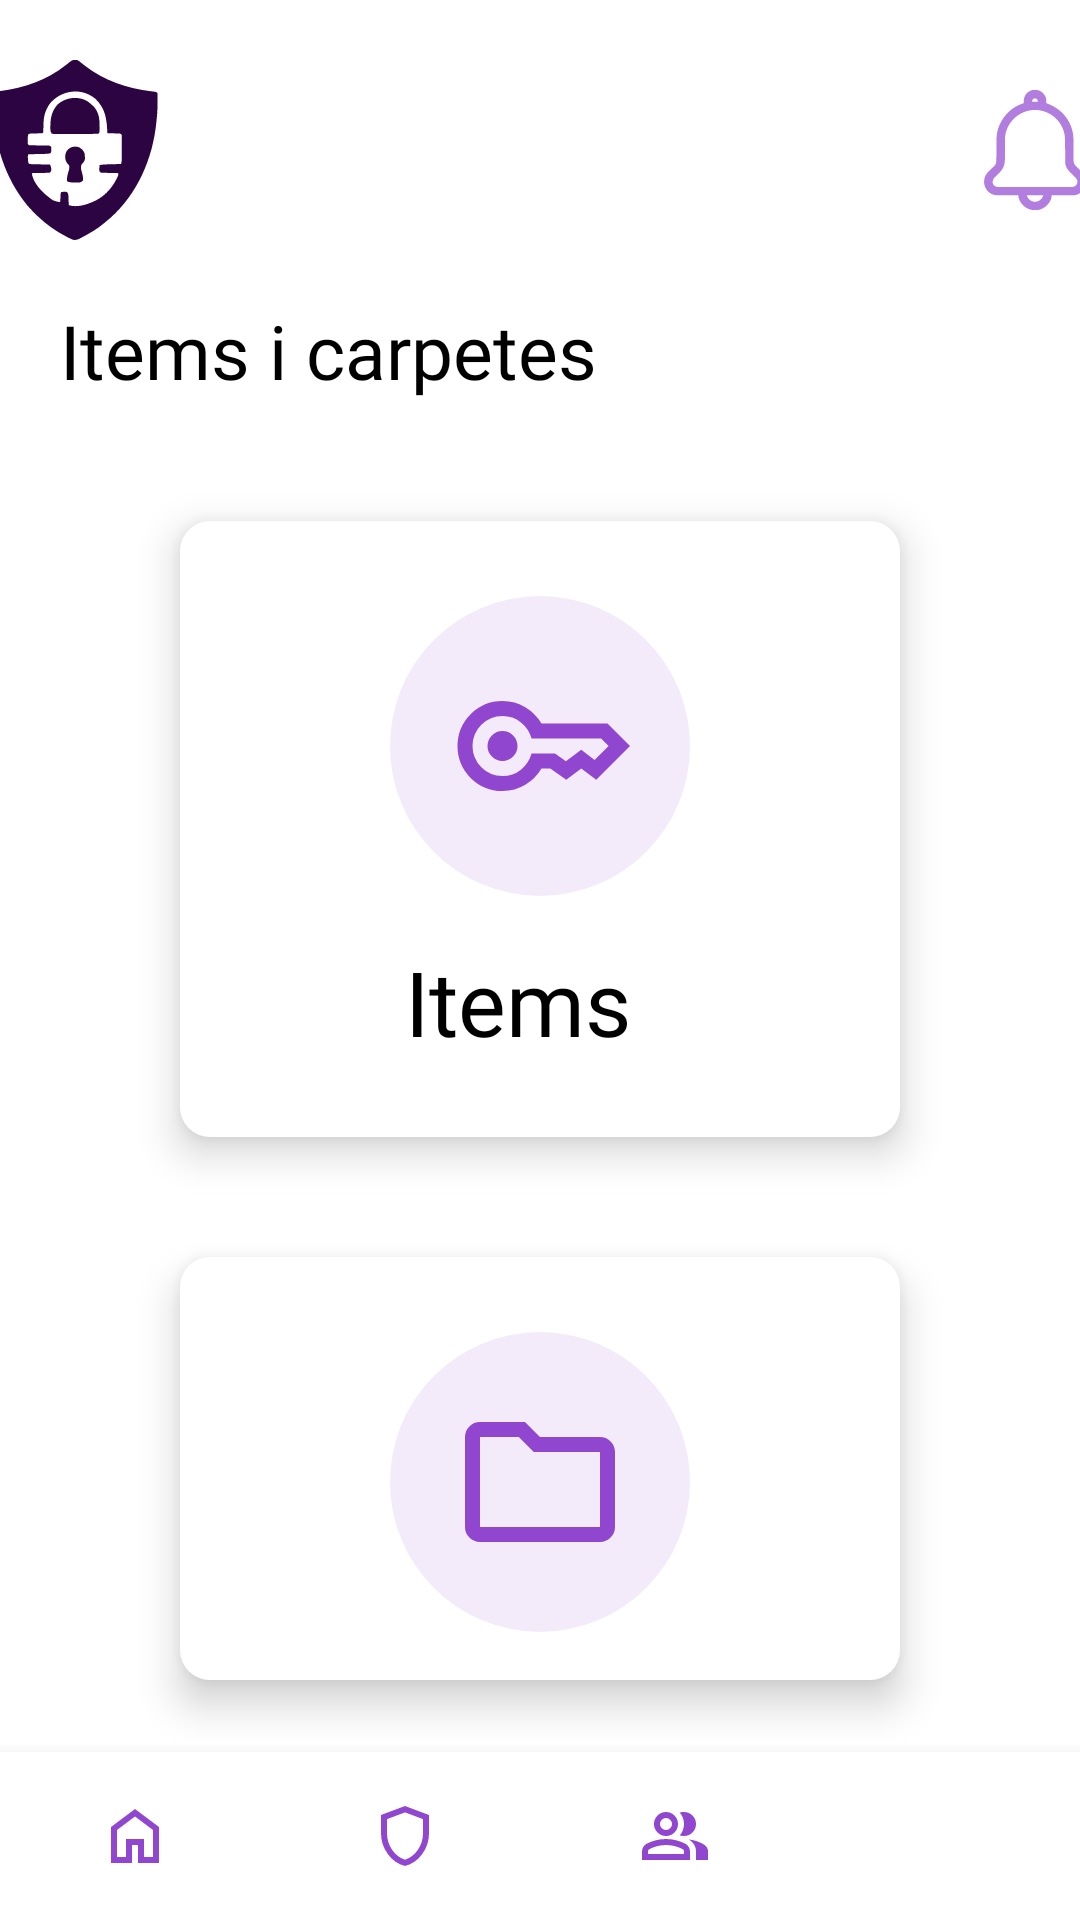

Icon click points for this 1080 x 1920 phone screenshot, format [x,y]:
carpeta: [540,1482]
key: [540,746]
